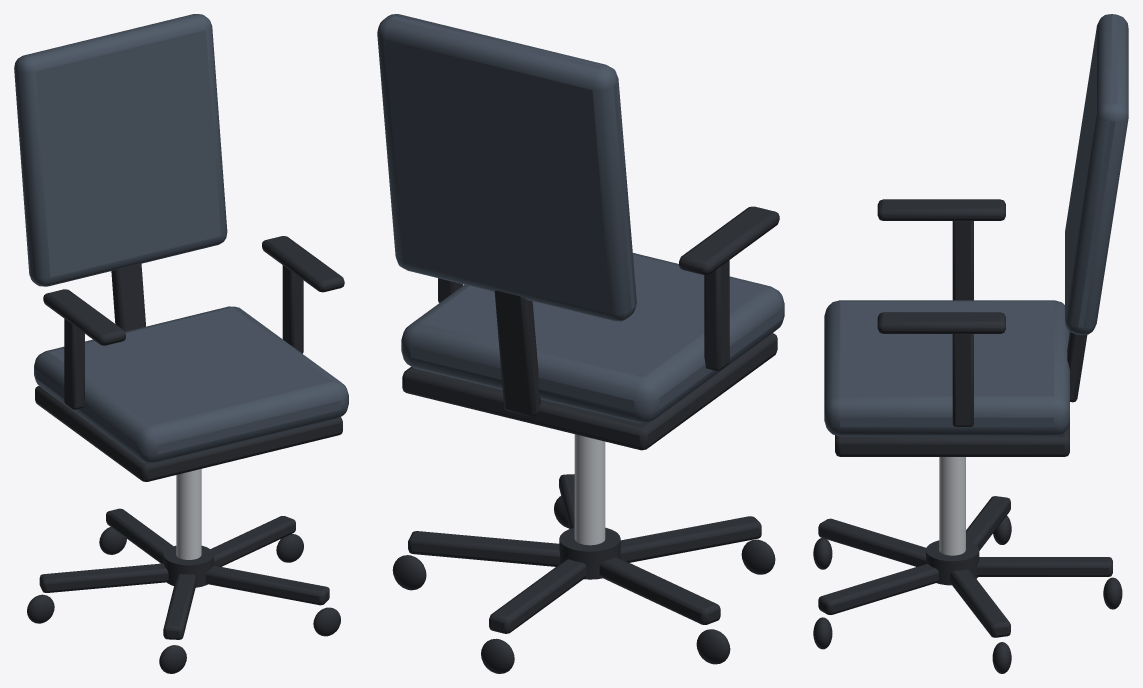
Rendered from chair_office.fbx.
The picture shows the model from 3 angles, left to right: view 1: azimuth 30°, elevation 25°; view 2: azimuth 150°, elevation 25°; view 3: azimuth 270°, elevation 25°; orthographic projection. The views are drawn at different scales.
Parts seen in each view (by area): view 1: ChairOffice; view 2: ChairOffice; view 3: ChairOffice.
Part boxes in pixels (x1=…): ChairOffice: x1=14, y1=14, x2=348, y2=673; ChairOffice: x1=377, y1=14, x2=784, y2=673; ChairOffice: x1=813, y1=14, x2=1128, y2=673.
Bounding box in the file's own units: 0.6306 × 1.13 × 0.5903.
